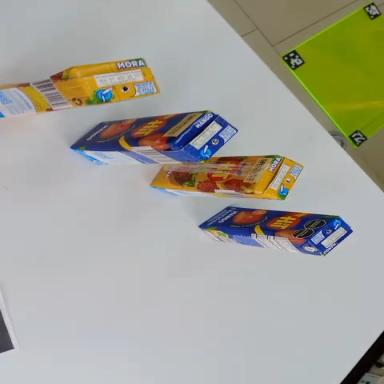HIT-MANGO: (70, 110, 238, 165), (198, 203, 353, 258)
HIT-MORA: (0, 55, 159, 119), (150, 151, 303, 201)
cara_F: (198, 203, 339, 243), (68, 111, 211, 149), (151, 152, 278, 192)
